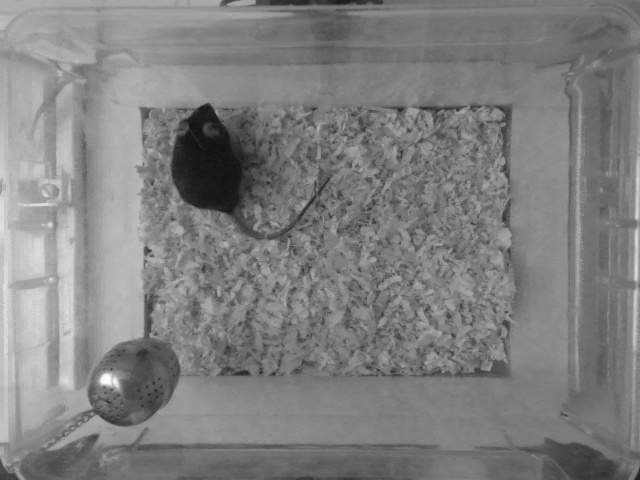mice: (169, 98, 329, 241)
